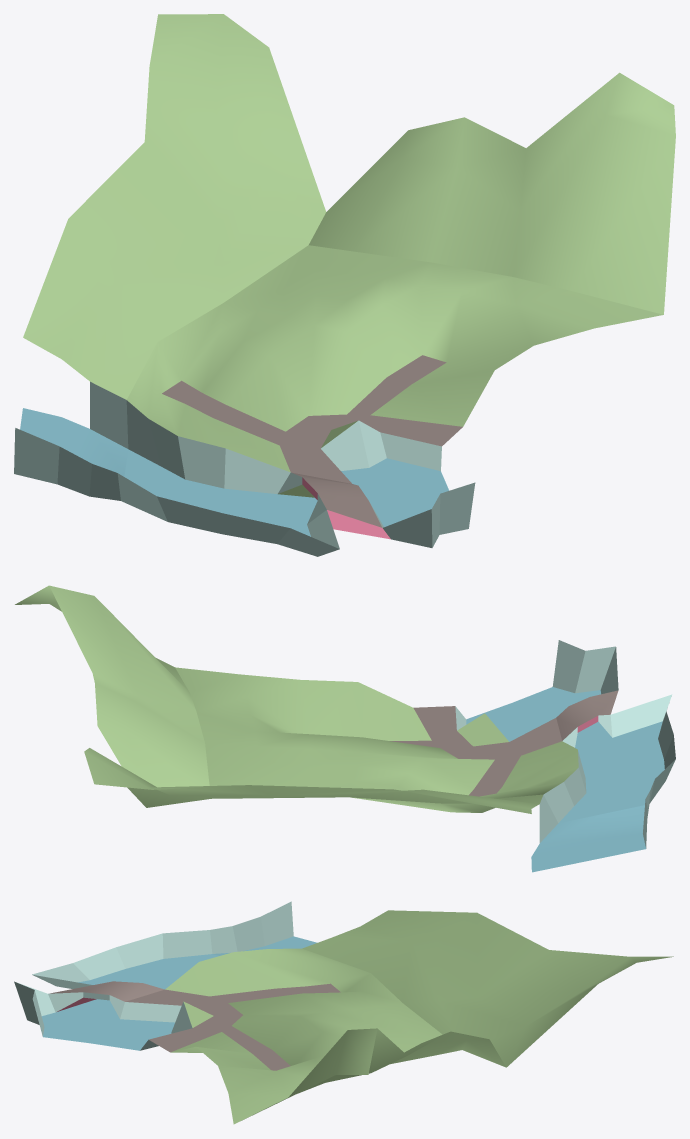
Rendered from level_12.fbx.
The picture shows the model from 3 angles, top to bottom: view 1: azimuth 30°, elevation 25°; view 2: azimuth 150°, elevation 25°; view 3: azimuth 270°, elevation 25°; orthographic projection. The views are drawn at different scales.
Visible parts, largest first — view 1: loc_012; view 2: loc_012; view 3: loc_012.
Part boxes in pixels (left/top/right/bottom): loc_012: left=14, top=14, right=675, bottom=556; loc_012: left=15, top=585, right=675, bottom=872; loc_012: left=14, top=901, right=673, bottom=1124.
Size of the model in its own units: 32.18 by 8.71 by 35.36.
